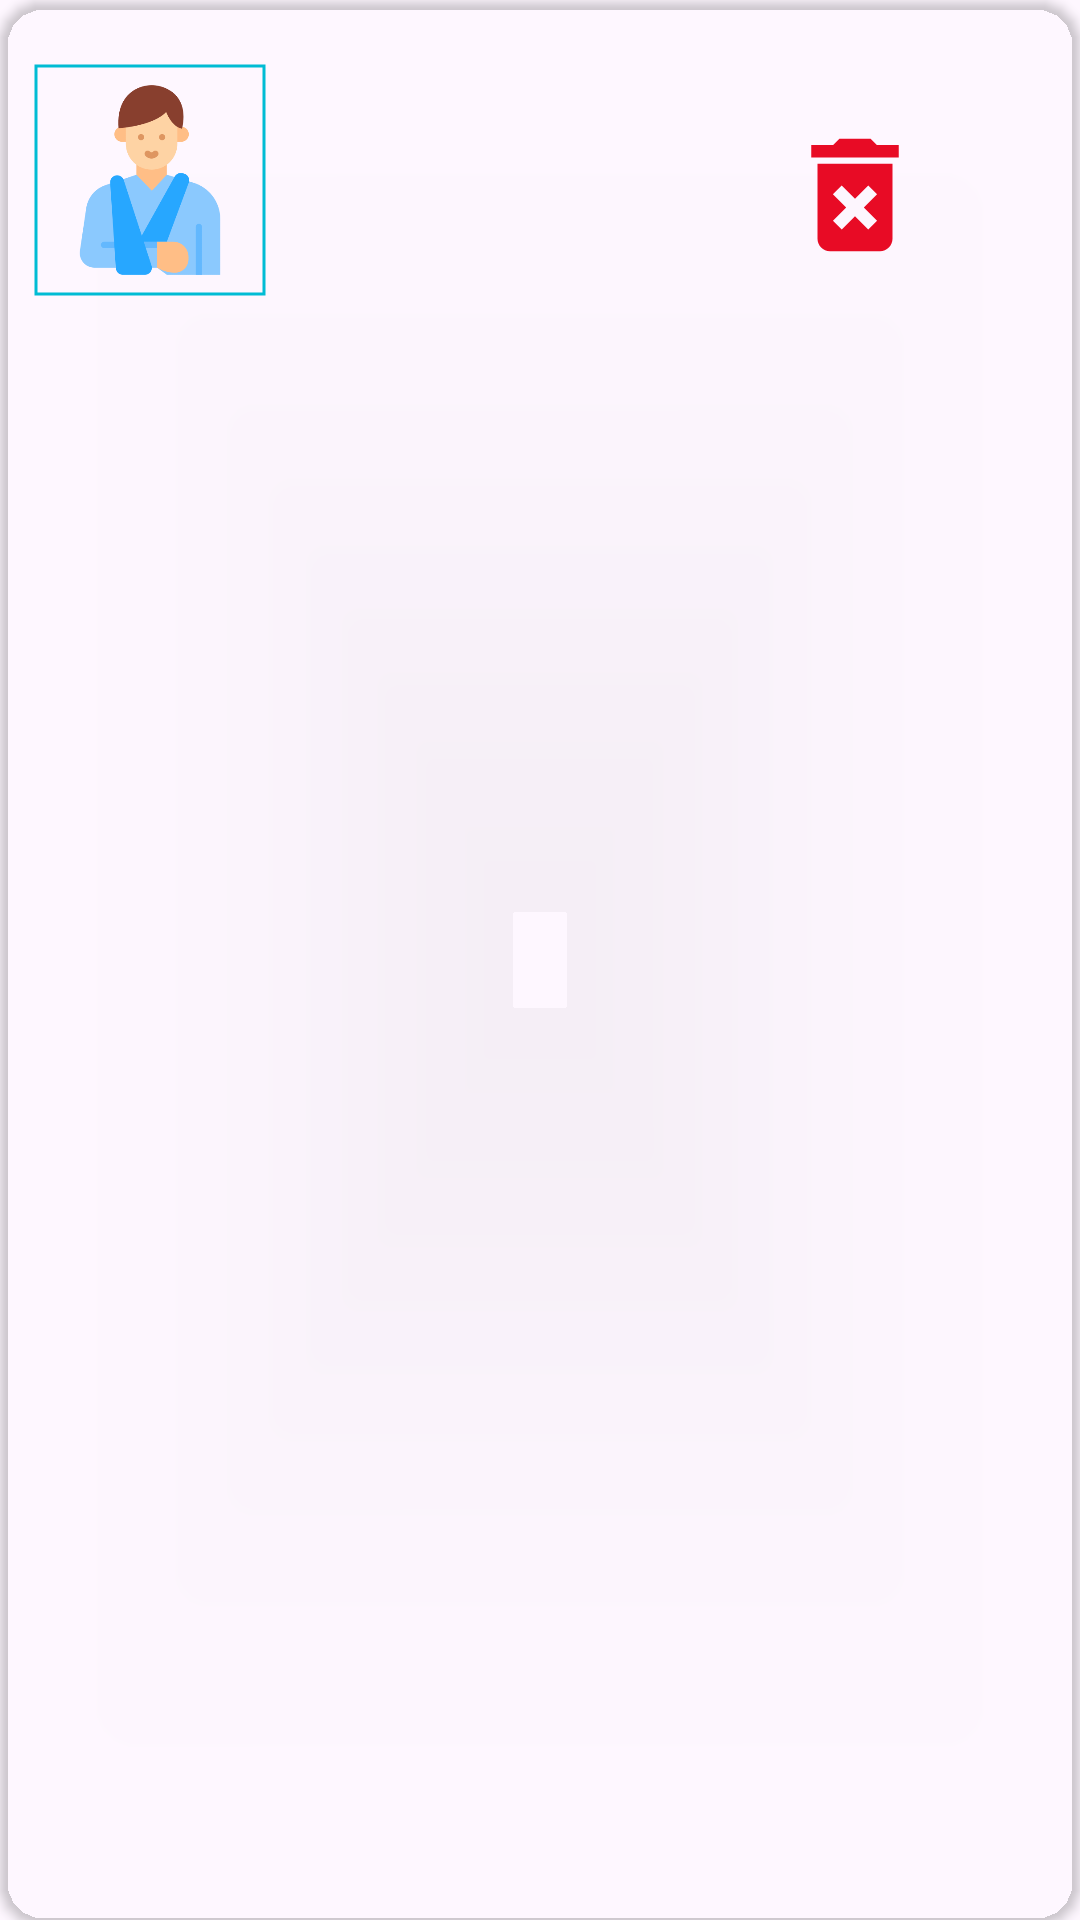

Icon bounding boxes for this 1080 x 1920 phone screenshot, format {"x1": x1, "y1": y1, "x2": x2, "y2": y2}:
delete: {"x1": 811, "y1": 138, "x2": 899, "y2": 252}
patient: {"x1": 34, "y1": 64, "x2": 266, "y2": 296}
